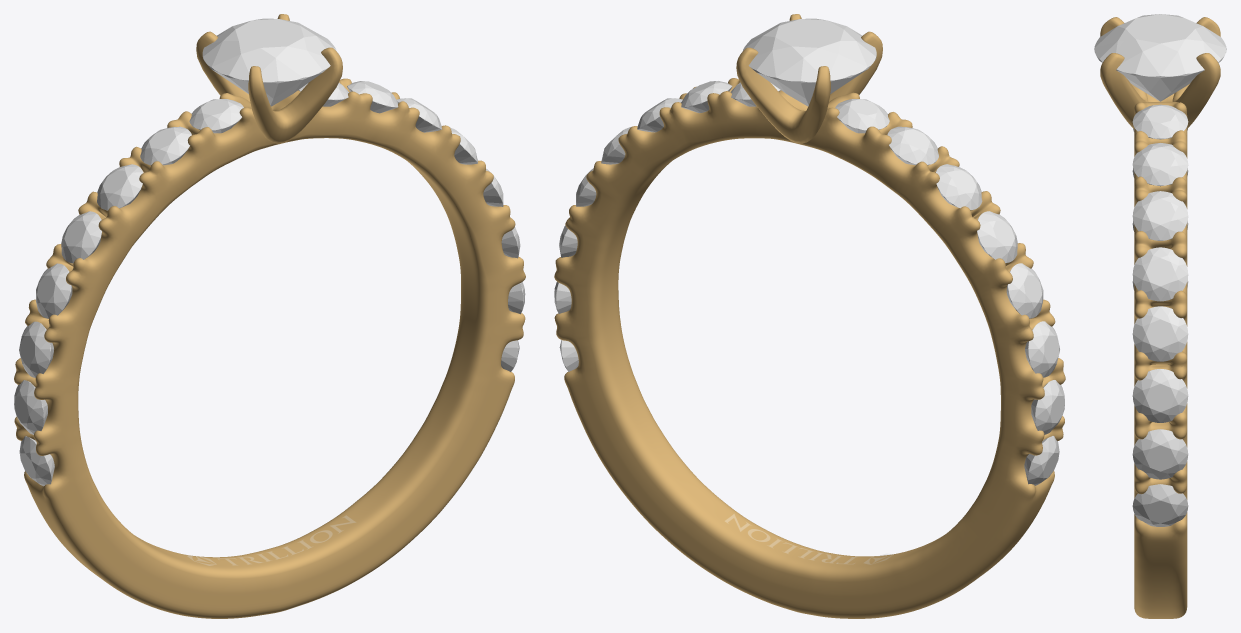
The model's file is ring3.glb.
3 renders of one model, left to right at view 1: azimuth 30°, elevation 25°; view 2: azimuth 150°, elevation 25°; view 3: azimuth 270°, elevation 25°, orthographic.
Visible parts, largest first — view 1: gold, Diamond, frame_diamond, Diamond.012, Diamond.011, Diamond.013, Diamond.010, Diamond.014, Diamond.009, Diamond.015, Diamond.016, Diamond.002; view 2: gold, Diamond, frame_diamond, Diamond.012, Diamond.011, Diamond.013, Diamond.010, Diamond.014, Diamond.009, Diamond.015, Diamond.016, Diamond.002; view 3: gold, Diamond, frame_diamond, Diamond.005, Diamond.006, Diamond.004, Diamond.007, Diamond.003, Diamond.002, Diamond.008, Diamond.001.
Boxes of the visible parts, box(x1,y1,x2,y2) form: gold: box(14, 78, 525, 618); Diamond: box(202, 18, 336, 106); frame_diamond: box(196, 14, 342, 143); Diamond.012: box(61, 211, 101, 263); Diamond.011: box(97, 164, 143, 210); Diamond.013: box(36, 263, 72, 318); Diamond.010: box(140, 126, 191, 165); Diamond.014: box(19, 321, 53, 377); Diamond.009: box(189, 99, 243, 133); Diamond.015: box(14, 380, 47, 434); Diamond.016: box(19, 436, 54, 486); Diamond.002: box(347, 81, 398, 113); gold: box(554, 78, 1065, 618); Diamond: box(743, 18, 876, 106); frame_diamond: box(736, 14, 882, 143); Diamond.012: box(977, 211, 1017, 263); Diamond.011: box(935, 164, 982, 210); Diamond.013: box(1006, 263, 1043, 318); Diamond.010: box(887, 126, 938, 165); Diamond.014: box(1025, 321, 1059, 377); Diamond.009: box(835, 99, 889, 133); Diamond.015: box(1031, 380, 1064, 434); Diamond.016: box(1024, 436, 1059, 485); Diamond.002: box(681, 81, 732, 113); gold: box(1134, 93, 1187, 618); Diamond: box(1094, 14, 1226, 101); frame_diamond: box(1100, 17, 1220, 128); Diamond.005: box(1132, 306, 1188, 361); Diamond.006: box(1132, 369, 1188, 422); Diamond.004: box(1132, 247, 1188, 301); Diamond.007: box(1132, 429, 1188, 479); Diamond.003: box(1132, 191, 1188, 240); Diamond.002: box(1132, 143, 1188, 186); Diamond.008: box(1132, 484, 1188, 526); Diamond.001: box(1132, 104, 1188, 139).
Bounding box in the file's own units: 1.34 × 1.48 × 0.3144.
3 materials, 1 textured.
